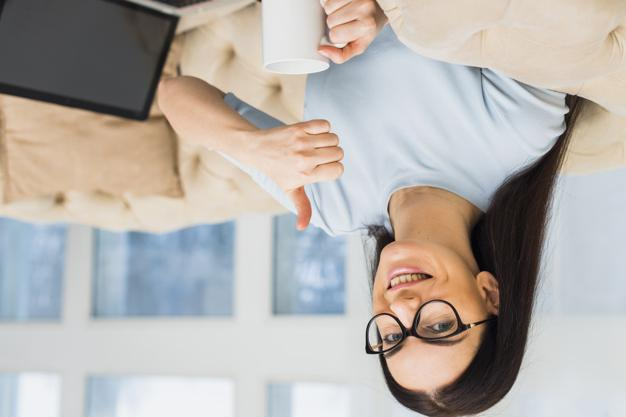thumbsdown: (284, 120, 344, 232)
